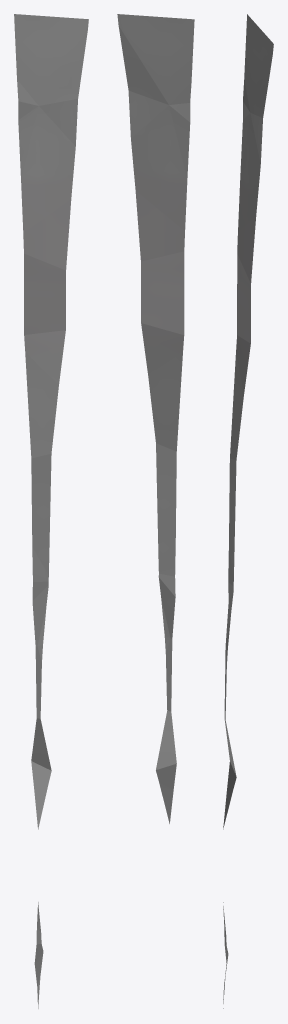
The picture shows the model from 3 angles, left to right: view 1: azimuth 30°, elevation 25°; view 2: azimuth 210°, elevation 25°; view 3: azimuth 330°, elevation 25°; orthographic projection. The views are drawn at different scales.
Size of the model in its own units: 0.0312 by 0.5748 by 0.0256.
1 material, 1 textured.
